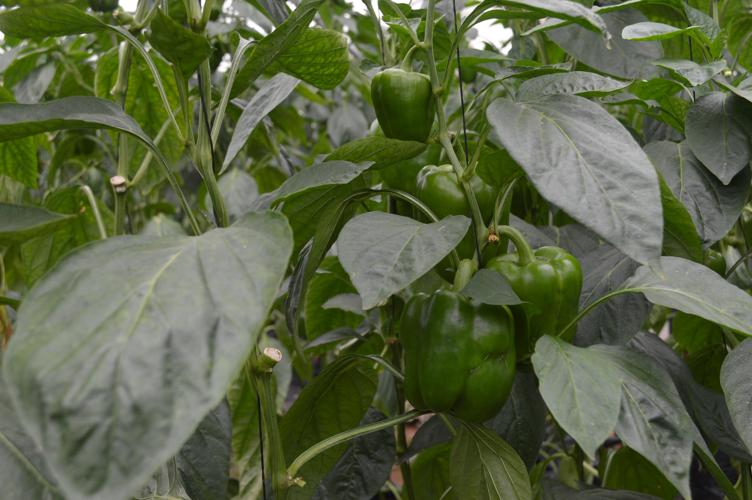BellPepper: (394, 290, 508, 426), (490, 241, 587, 380), (406, 162, 509, 273), (365, 54, 448, 160)
